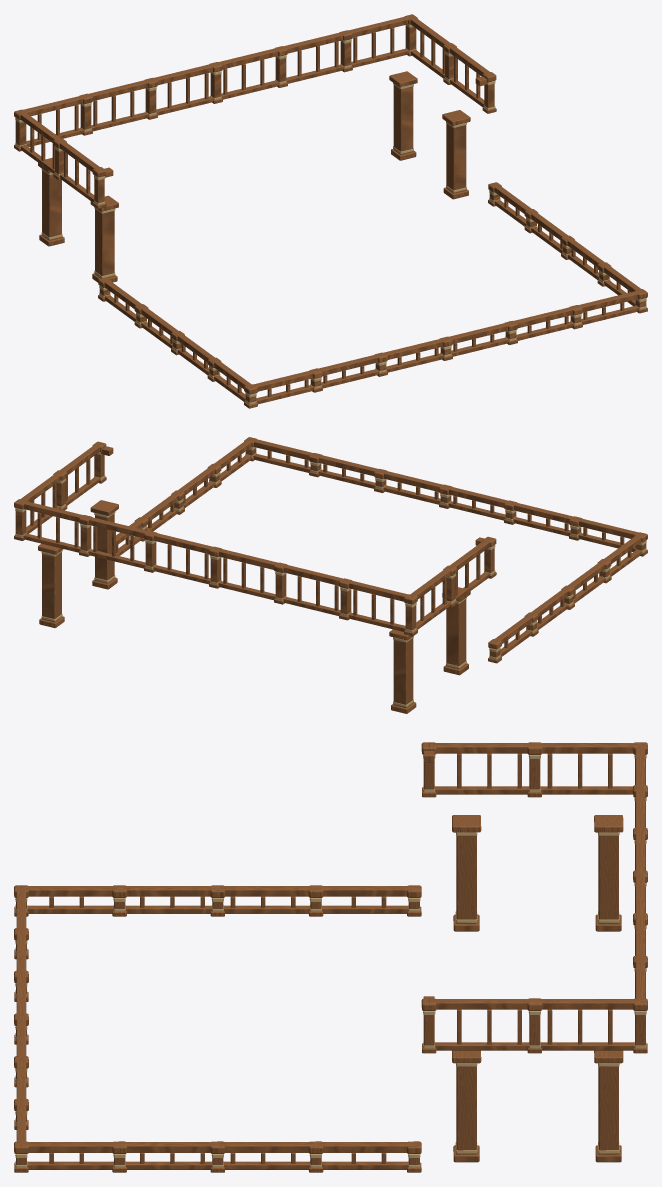
File: theatre_perimeter.glb
3 renders of one model, top to bottom at view 1: azimuth 30°, elevation 25°; view 2: azimuth 150°, elevation 25°; view 3: azimuth 270°, elevation 25°, orthographic. The views are drawn at different scales.
Parts seen in each view (by area): view 1: perimeter_Oak, perimeter_Brass; view 2: perimeter_Oak, perimeter_Brass; view 3: perimeter_Oak, perimeter_Brass.
Boxes of the visible parts, x1=… form: perimeter_Oak: x1=14, y1=14, x2=647, y2=408; perimeter_Brass: x1=15, y1=24, x2=646, y2=404; perimeter_Oak: x1=14, y1=437, x2=647, y2=713; perimeter_Brass: x1=15, y1=447, x2=646, y2=707; perimeter_Oak: x1=14, y1=742, x2=647, y2=1172; perimeter_Brass: x1=15, y1=755, x2=646, y2=1167.
Size of the model in its own units: 1.66 by 0.499 by 1.7.
Materials: 3 (1 with a texture image).
